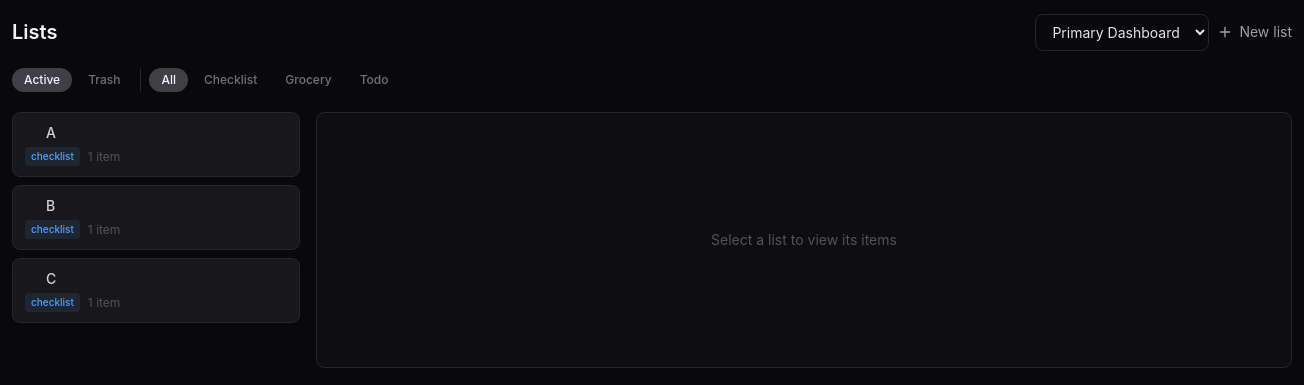
Test: ListsLayout list reordering › renders neither drag handles nor a sortable list in the Trash view
This screenshot has width=1304, height=385.
Click the button "Trash" at {"x": 104, "y": 80}, box [76,68,132,92]
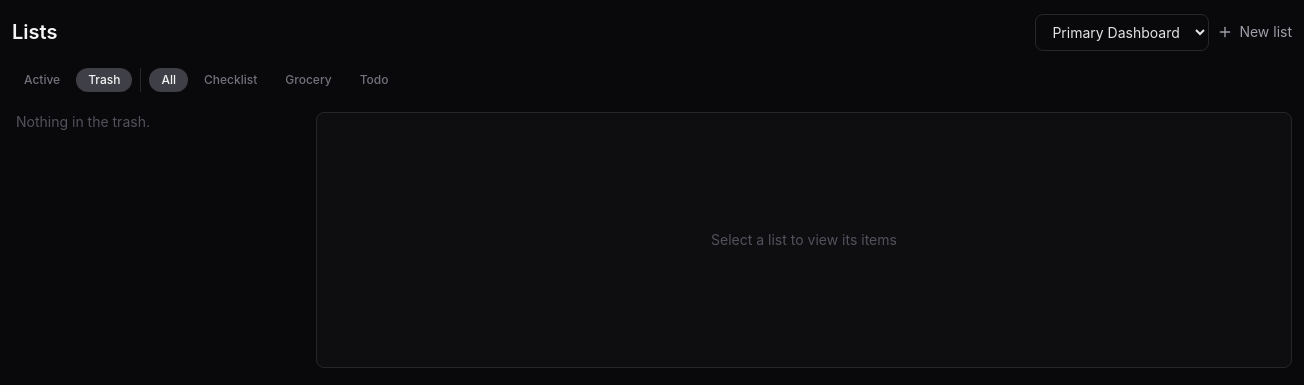
Check: the text "Nothing in the trash." is shown, box [16,113,150,130]
